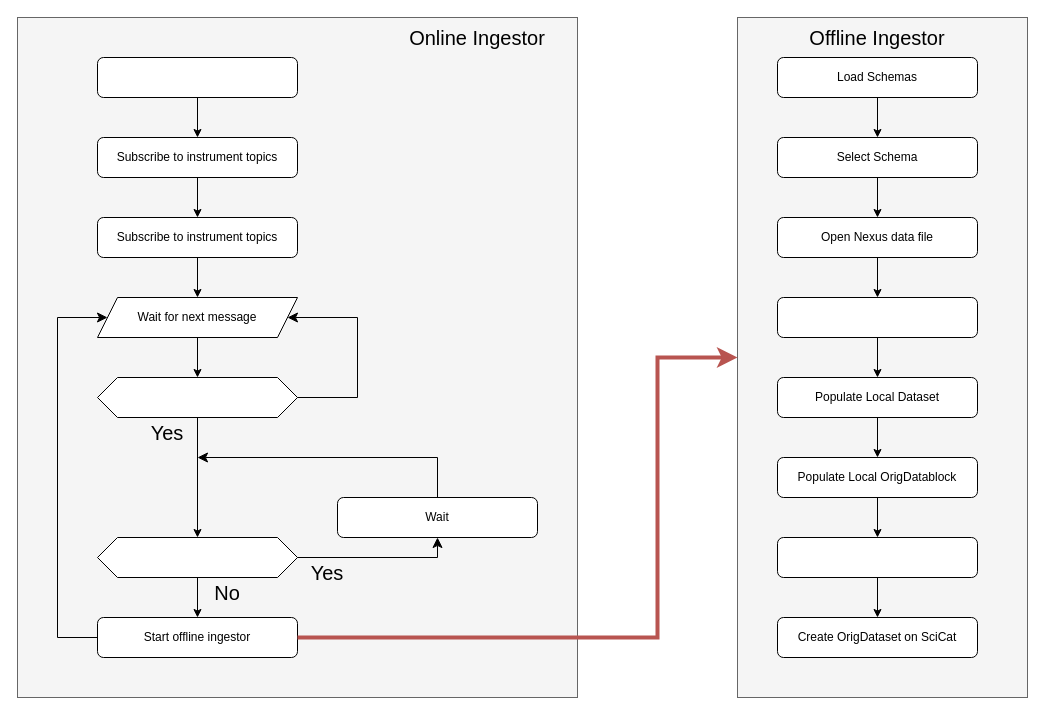
Image size: 1045x715. Some labels were removed from this diagram. The shapes that lost their labels are listed below. From the top down, each one's centre as x and y in pixels, then its label:
At (197,77): "Connect to Kafka cluster".
At (877,317): "Define Variables".
At (197,397): "Done writing (wrdn) message?".
At (197,557): "Max offline ingestors?".
At (877,557): "Create Dataset on SciCat".
